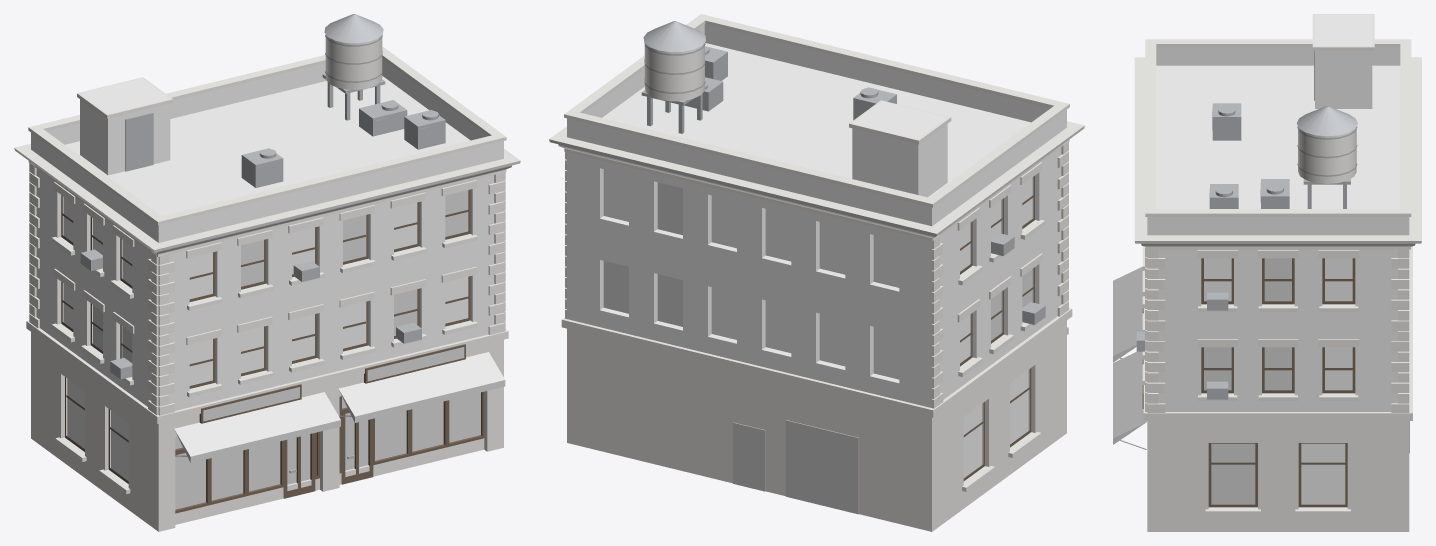
Rendered from midtown_w50f2s.glb.
3 renders of one model, left to right at view 1: azimuth 30°, elevation 25°; view 2: azimuth 150°, elevation 25°; view 3: azimuth 270°, elevation 25°, orthographic. The views are drawn at different scales.
Parts seen in each view (by area): view 1: midtown_w50f2s_Walls, midtown_w50f2s_Trim, midtown_w50f2s_Roof, midtown_w50f2s_WindowsLit, midtown_w50f2s_Awning, midtown_w50f2s_Glass, midtown_w50f2s_Frames, midtown_w50f2s_Details, midtown_w50f2s_Sign; view 2: midtown_w50f2s_Walls, midtown_w50f2s_Trim, midtown_w50f2s_Roof, midtown_w50f2s_Glass, midtown_w50f2s_Doors, midtown_w50f2s_Details, midtown_w50f2s_WindowsLit, midtown_w50f2s_Frames; view 3: midtown_w50f2s_Trim, midtown_w50f2s_Walls, midtown_w50f2s_Roof, midtown_w50f2s_Glass, midtown_w50f2s_WindowsLit, midtown_w50f2s_Details, midtown_w50f2s_Awning, midtown_w50f2s_Frames.
Boxes of the visible parts, bbox=[...] form: midtown_w50f2s_Walls: bbox=[31, 59, 503, 410]; midtown_w50f2s_Trim: bbox=[14, 34, 520, 531]; midtown_w50f2s_Roof: bbox=[65, 76, 470, 215]; midtown_w50f2s_WindowsLit: bbox=[93, 190, 480, 509]; midtown_w50f2s_Awning: bbox=[174, 352, 505, 462]; midtown_w50f2s_Glass: bbox=[63, 197, 468, 480]; midtown_w50f2s_Frames: bbox=[61, 189, 484, 513]; midtown_w50f2s_Details: bbox=[80, 14, 445, 473]; midtown_w50f2s_Sign: bbox=[203, 347, 464, 421]; midtown_w50f2s_Walls: bbox=[567, 24, 1066, 407]; midtown_w50f2s_Trim: bbox=[549, 14, 1084, 531]; midtown_w50f2s_Roof: bbox=[602, 43, 1030, 197]; midtown_w50f2s_Glass: bbox=[603, 169, 1032, 477]; midtown_w50f2s_Doors: bbox=[733, 420, 858, 514]; midtown_w50f2s_Details: bbox=[641, 21, 1045, 324]; midtown_w50f2s_WindowsLit: bbox=[603, 182, 1032, 340]; midtown_w50f2s_Frames: bbox=[960, 176, 1034, 481]; midtown_w50f2s_Trim: bbox=[1134, 14, 1421, 531]; midtown_w50f2s_Walls: bbox=[1147, 47, 1409, 411]; midtown_w50f2s_Roof: bbox=[1156, 15, 1400, 208]; midtown_w50f2s_Glass: bbox=[1204, 258, 1352, 504]; midtown_w50f2s_WindowsLit: bbox=[1204, 258, 1291, 504]; midtown_w50f2s_Details: bbox=[1120, 51, 1357, 449]; midtown_w50f2s_Awning: bbox=[1113, 266, 1146, 444]; midtown_w50f2s_Frames: bbox=[1142, 258, 1355, 507].
Bounding box in the file's own units: 53.12 × 53.12 × 37.76.
